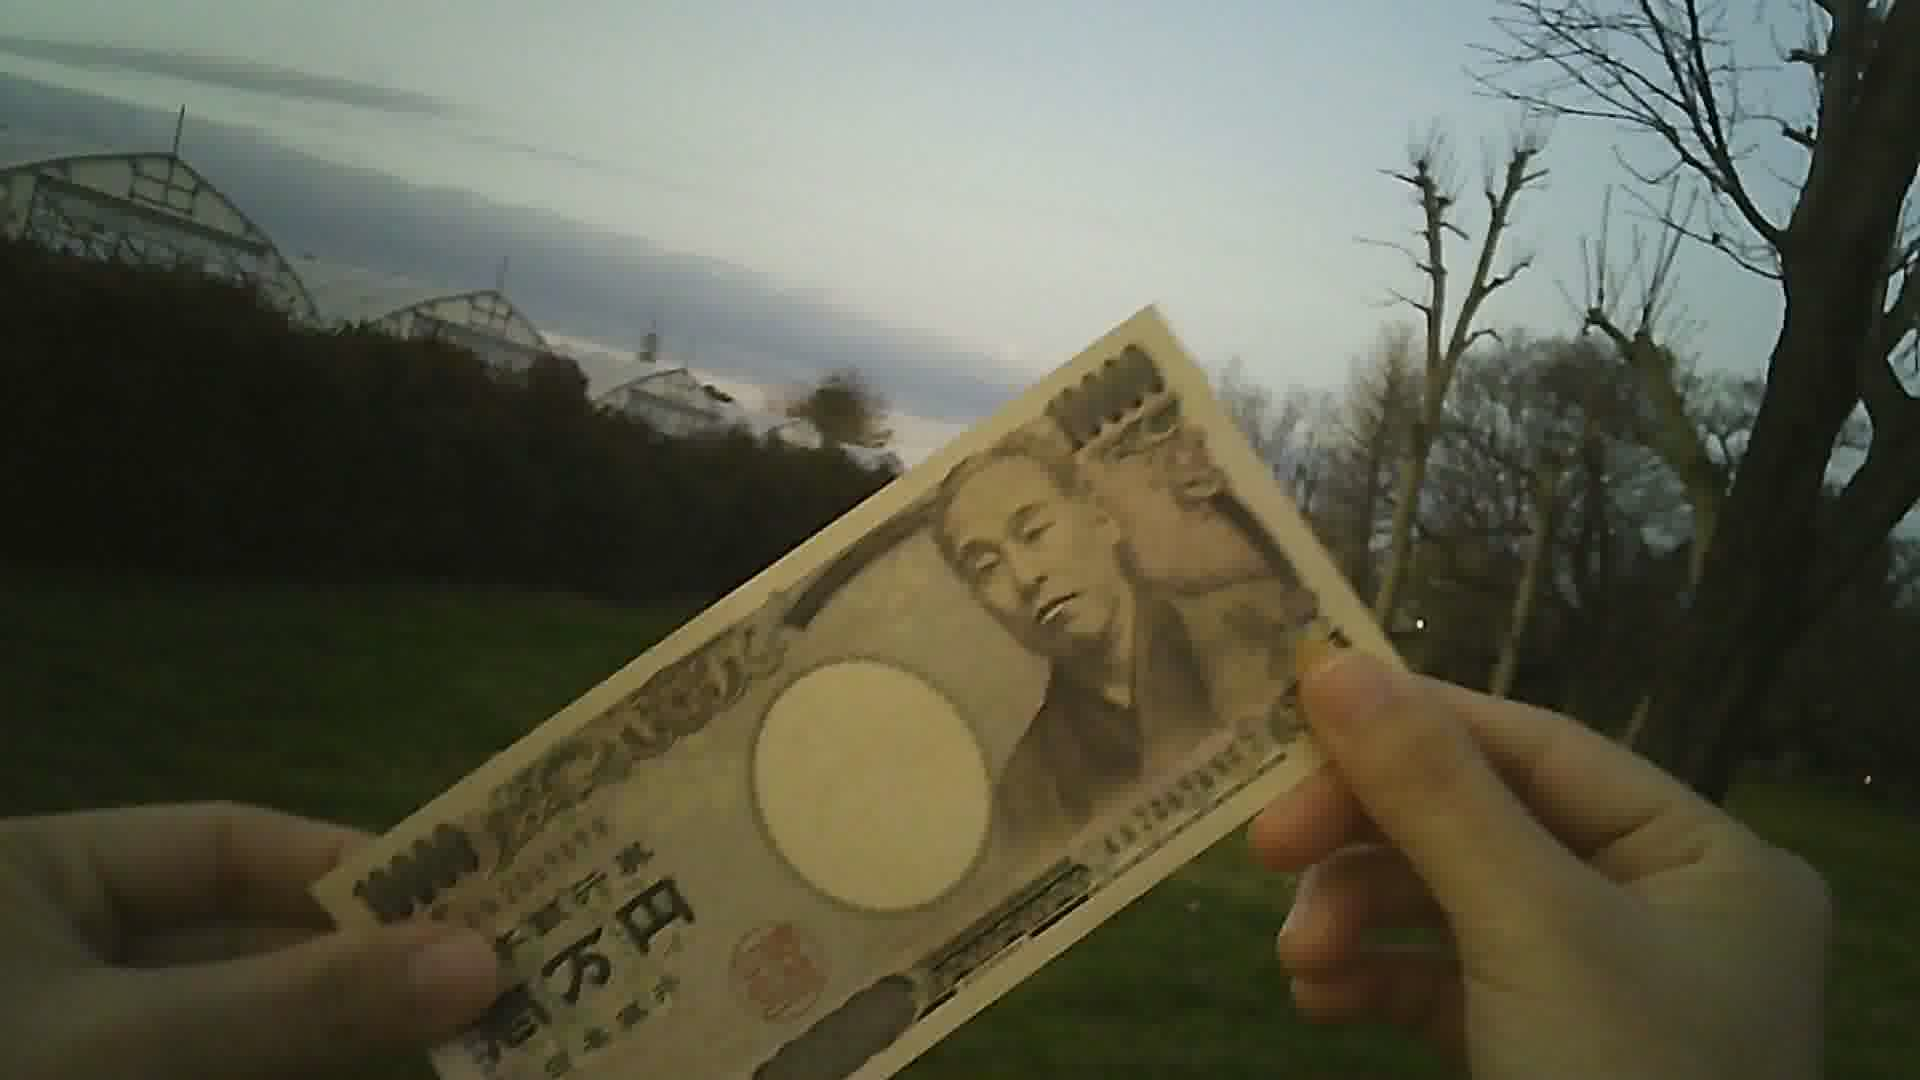10,000 Yen: (294, 276, 1453, 1079)
